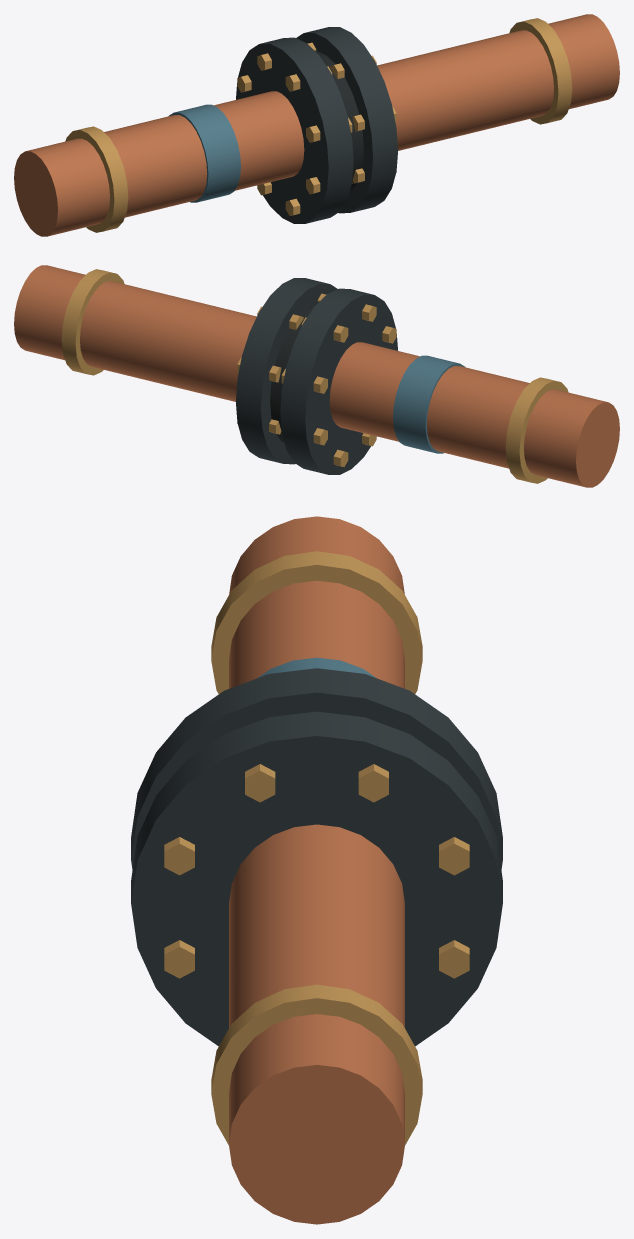
File: coolant-working.glb
3 views of the same model, one above another, from view 1: azimuth 30°, elevation 25°; view 2: azimuth 150°, elevation 25°; view 3: azimuth 270°, elevation 25° (orthographic). The views are drawn at different scales.
Parts seen in each view (by area): view 1: RB_coolant_working; view 2: RB_coolant_working; view 3: RB_coolant_working.
Boxes of the visible parts, left/top/right/bottom form: RB_coolant_working: left=14, top=14, right=619, bottom=236; RB_coolant_working: left=14, top=265, right=619, bottom=487; RB_coolant_working: left=131, top=516, right=502, bottom=1224.
Size of the model in its own units: 0.81 by 0.232 by 0.232.
